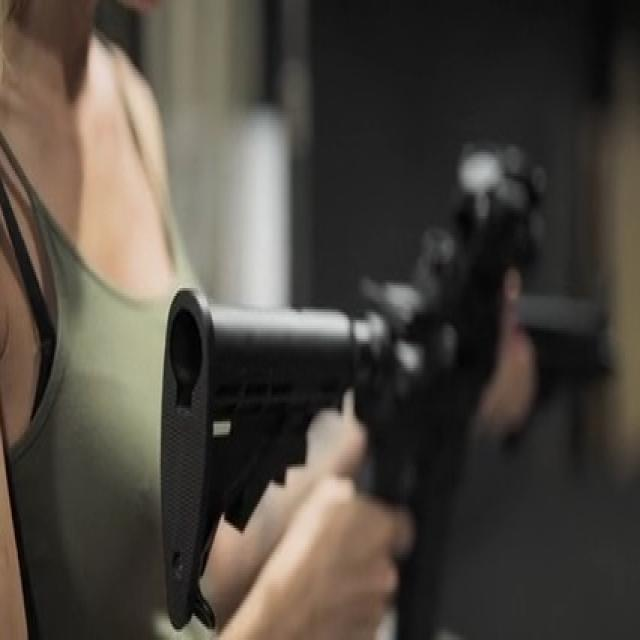Gun_Holder: (131, 37, 628, 640)
